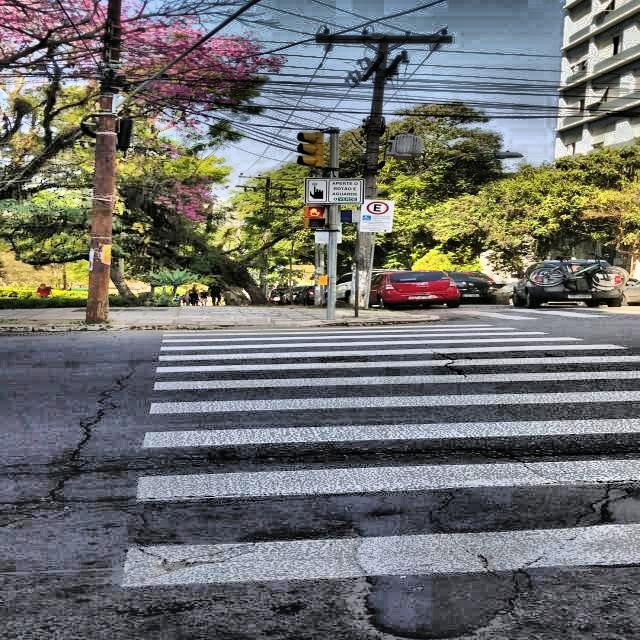faixa de pedestre: (115, 318, 631, 584)
